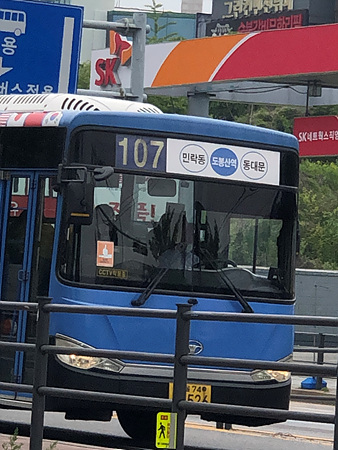bnum: (116, 134, 167, 169)
